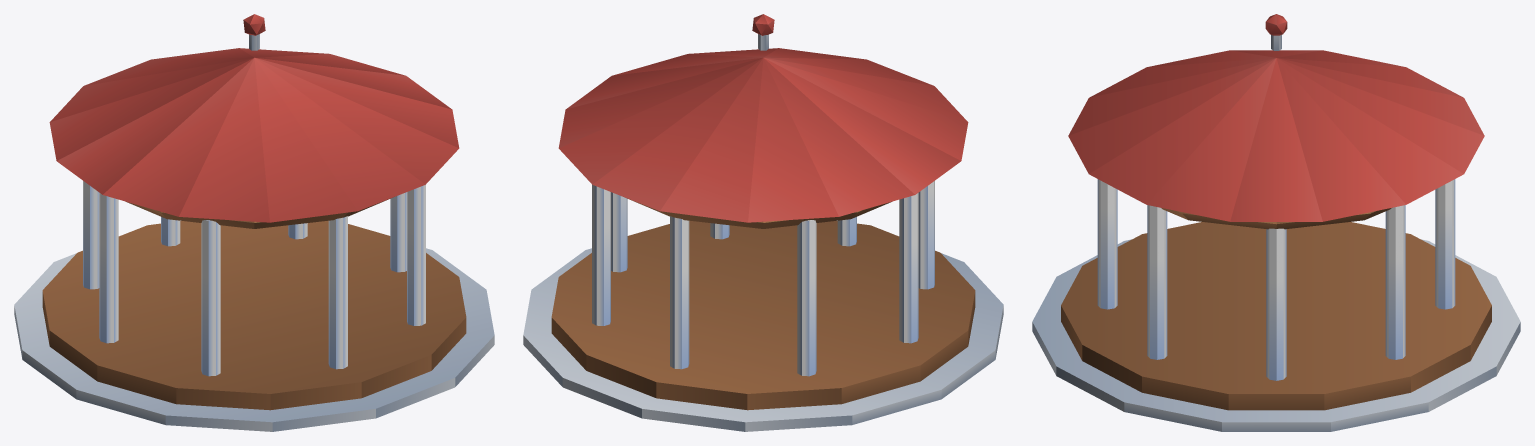
The model's file is bandstand.fbx.
3 renders of one model, left to right at view 1: azimuth 30°, elevation 25°; view 2: azimuth 150°, elevation 25°; view 3: azimuth 270°, elevation 25°, orthographic.
Parts seen in each view (by area): view 1: bandstand; view 2: bandstand; view 3: bandstand.
Part boxes in pixels (bbox=[...]): bandstand: bbox=[14, 14, 494, 431]; bandstand: bbox=[523, 14, 1003, 431]; bandstand: bbox=[1032, 14, 1520, 431].
Bounding box in the file's own units: 1755 × 1290 × 1800.
